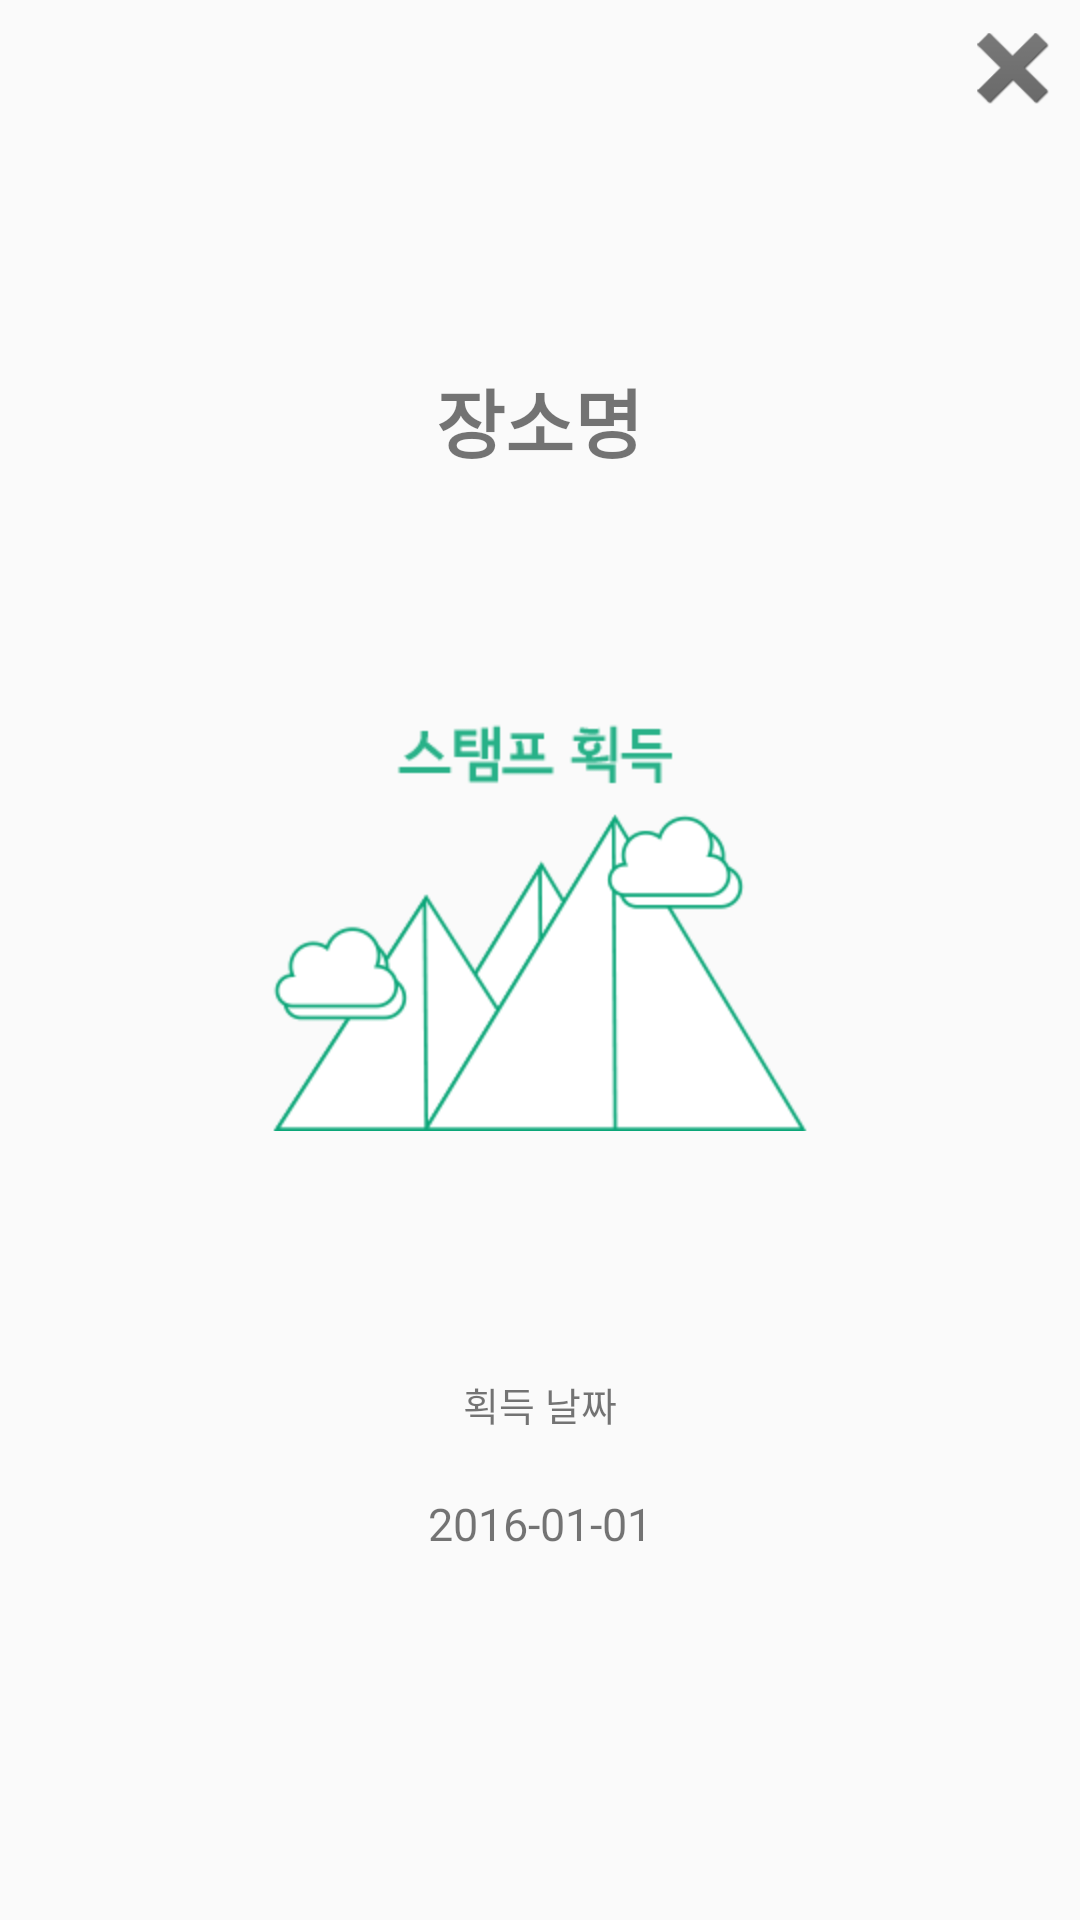

Screen size 1080×1920. Icon name, then its box in pixels as [x1,y1,x2,y2]:
close: [977,33,1049,104]
